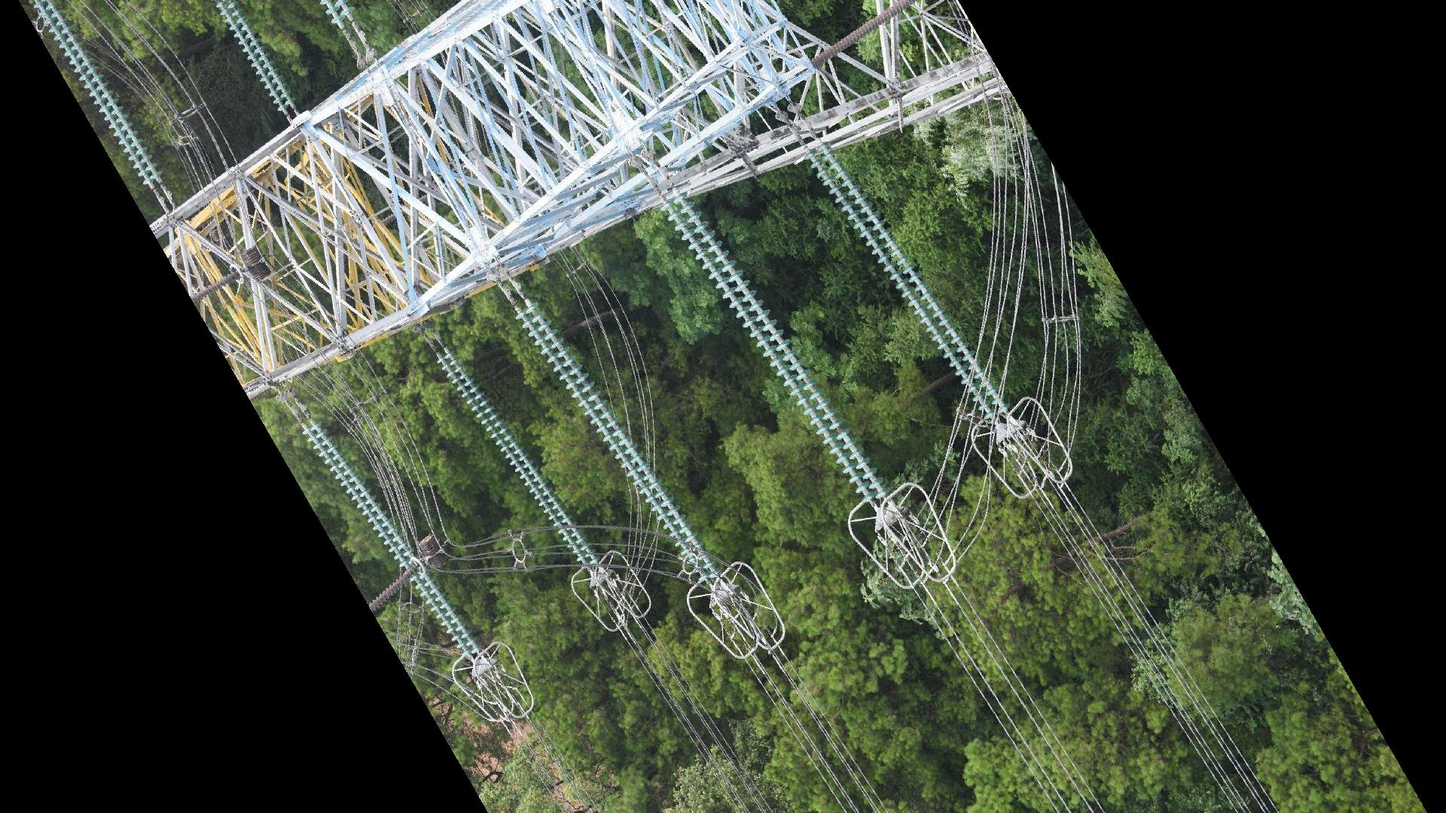insulator: (657, 190, 893, 505), (511, 298, 725, 581), (800, 139, 1011, 422), (301, 422, 484, 658), (435, 349, 603, 568), (29, 1, 164, 187), (215, 1, 297, 114), (809, 1, 917, 69), (368, 561, 420, 614), (189, 269, 241, 304), (317, 1, 356, 27)
